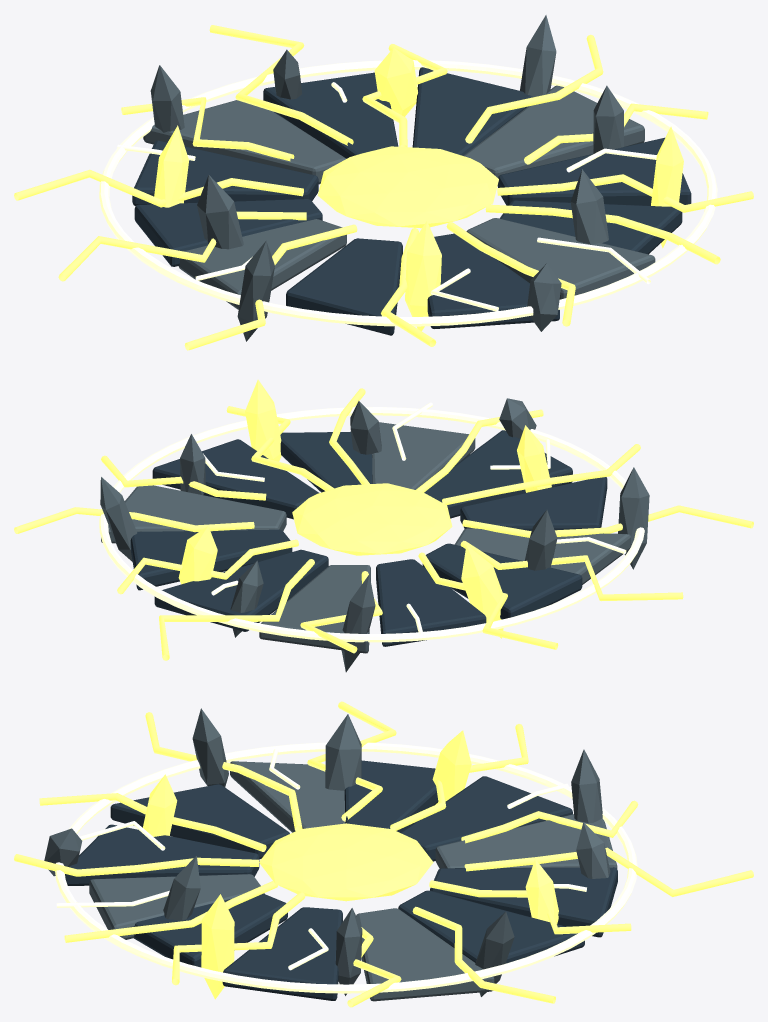
File: SlamImpact.fbx
The picture shows the model from 3 angles, top to bottom: view 1: azimuth 30°, elevation 25°; view 2: azimuth 150°, elevation 25°; view 3: azimuth 270°, elevation 25°; orthographic projection. The views are drawn at different scales.
Visible parts, largest first — view 1: Slam_EnergyRim, Slam_ImpactCore, Slam_CraterPlate_08, Slam_CraterPlate_04, Slam_CraterPlate_01, Slam_CraterPlate_10, Slam_CraterPlate_02, Slam_CraterPlate_03, Slam_CraterPlate_09, Slam_CraterPlate_12, Slam_CraterPlate_07, Slam_CraterPlate_05 (+28 smaller); view 2: Slam_EnergyRim, Slam_ImpactCore, Slam_CraterPlate_05, Slam_CraterPlate_08, Slam_CraterPlate_12, Slam_CraterPlate_03, Slam_CraterPlate_01, Slam_CraterPlate_02, Slam_CraterPlate_06, Slam_CraterPlate_04, Slam_CraterPlate_09, Slam_CraterPlate_10 (+26 smaller); view 3: Slam_EnergyRim, Slam_ImpactCore, Slam_CraterPlate_01, Slam_CraterPlate_12, Slam_CraterPlate_03, Slam_CraterPlate_09, Slam_CraterPlate_05, Slam_CraterPlate_08, Slam_CraterPlate_02, Slam_CraterPlate_04, Slam_CraterPlate_10, Slam_CraterPlate_07 (+27 smaller).
Boxes of the visible parts, x1,y1,x2,y2 form: Slam_EnergyRim: [99, 60, 717, 326]; Slam_ImpactCore: [317, 146, 498, 228]; Slam_CraterPlate_08: [286, 238, 402, 335]; Slam_CraterPlate_04: [143, 100, 346, 184]; Slam_CraterPlate_01: [463, 85, 644, 186]; Slam_CraterPlate_10: [466, 218, 655, 299]; Slam_CraterPlate_02: [412, 67, 532, 155]; Slam_CraterPlate_03: [263, 72, 398, 158]; Slam_CraterPlate_09: [427, 233, 559, 328]; Slam_CraterPlate_12: [498, 137, 691, 205]; Slam_CraterPlate_07: [178, 219, 346, 309]; Slam_CraterPlate_05: [132, 140, 318, 205]; Slam_EnergyRim: [99, 407, 644, 642]; Slam_ImpactCore: [292, 483, 452, 555]; Slam_CraterPlate_05: [376, 559, 486, 646]; Slam_CraterPlate_08: [460, 477, 607, 530]; Slam_CraterPlate_12: [152, 439, 318, 519]; Slam_CraterPlate_03: [154, 549, 328, 631]; Slam_CraterPlate_01: [101, 485, 286, 543]; Slam_CraterPlate_02: [130, 529, 292, 590]; Slam_CraterPlate_06: [422, 543, 582, 619]; Slam_CraterPlate_04: [259, 565, 370, 653]; Slam_CraterPlate_09: [424, 430, 572, 518]; Slam_CraterPlate_10: [372, 422, 475, 489]; Slam_EnergyRim: [55, 742, 637, 993]; Slam_ImpactCore: [259, 823, 433, 901]; Slam_CraterPlate_01: [356, 908, 494, 1001]; Slam_CraterPlate_12: [222, 907, 342, 1000]; Slam_CraterPlate_03: [430, 867, 617, 937]; Slam_CraterPlate_09: [65, 824, 259, 885]; Slam_CraterPlate_05: [400, 776, 572, 861]; Slam_CraterPlate_08: [110, 784, 289, 859]; Slam_CraterPlate_02: [398, 890, 584, 963]; Slam_CraterPlate_04: [435, 814, 617, 868]; Slam_CraterPlate_10: [89, 874, 264, 939]; Slam_CraterPlate_07: [230, 761, 345, 832].
Size of the model in its own units: 884 by 152 by 918.
